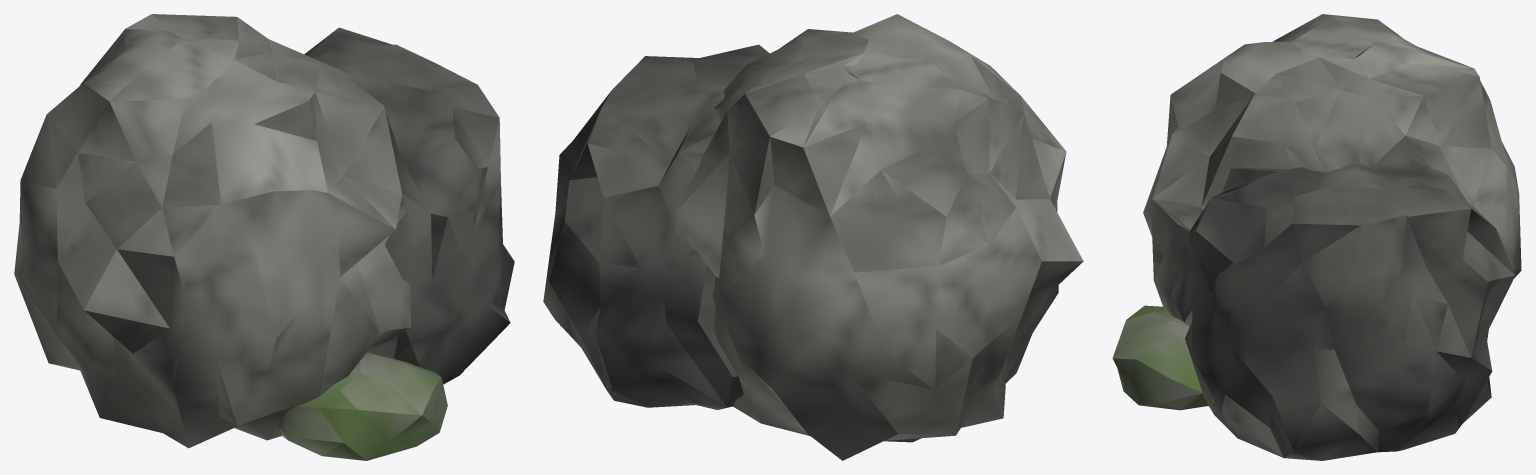
Rendered from SM_Boulder02.fbx.
3 views of the same model, side by side, from view 1: azimuth 30°, elevation 25°; view 2: azimuth 150°, elevation 25°; view 3: azimuth 270°, elevation 25° (orthographic). The views are drawn at different scales.
Parts seen in each view (by area): view 1: SM_Boulder02; view 2: SM_Boulder02; view 3: SM_Boulder02.
Part boxes in pixels (x1,y1,x2,y2): SM_Boulder02: [14, 14, 514, 460]; SM_Boulder02: [543, 14, 1083, 460]; SM_Boulder02: [1112, 14, 1521, 460].
Size of the model in its own units: 6.82 by 4.77 by 5.87.
1 material, 1 textured.
